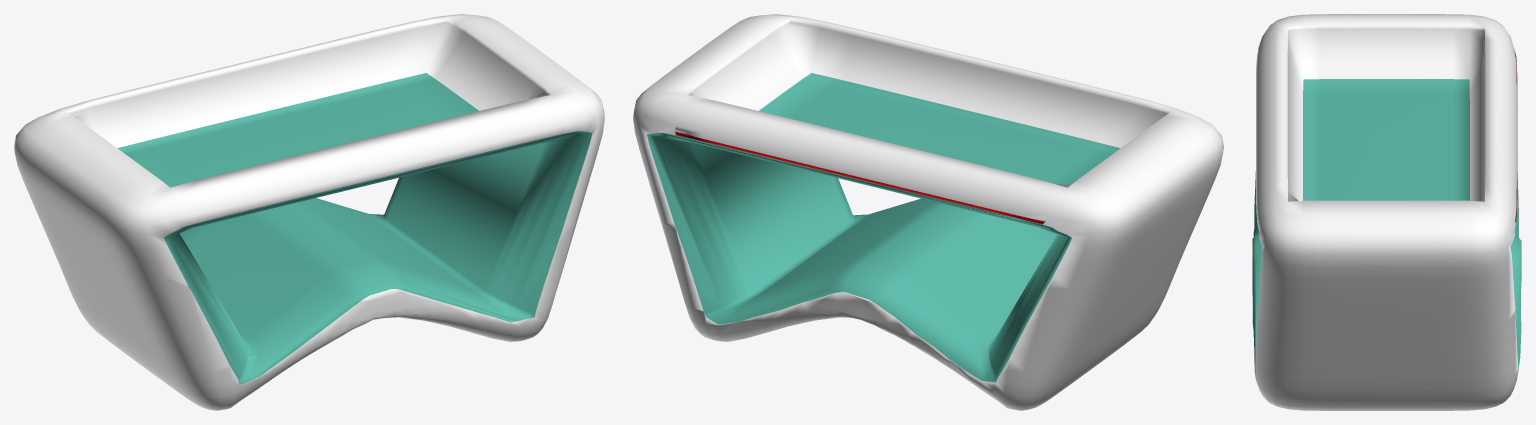
The model's file is Anatomage-table.glb.
3 views of the same model, side by side, from view 1: azimuth 30°, elevation 25°; view 2: azimuth 150°, elevation 25°; view 3: azimuth 270°, elevation 25° (orthographic). The views are drawn at different scales.
Visible parts, largest first — view 1: Cube; view 2: Cube; view 3: Cube.
Boxes of the visible parts, left/top/right/bottom form: Cube: left=14, top=14, right=604, bottom=410; Cube: left=633, top=14, right=1223, bottom=410; Cube: left=1252, top=14, right=1521, bottom=410.
Size of the model in its own units: 33.45 by 15.5 by 16.92.
Materials: 1 (1 with a texture image).
